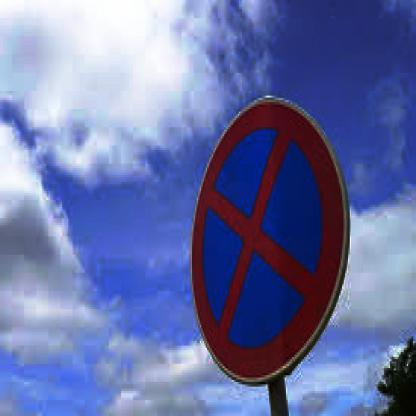No stopping: (187, 98, 357, 390)
